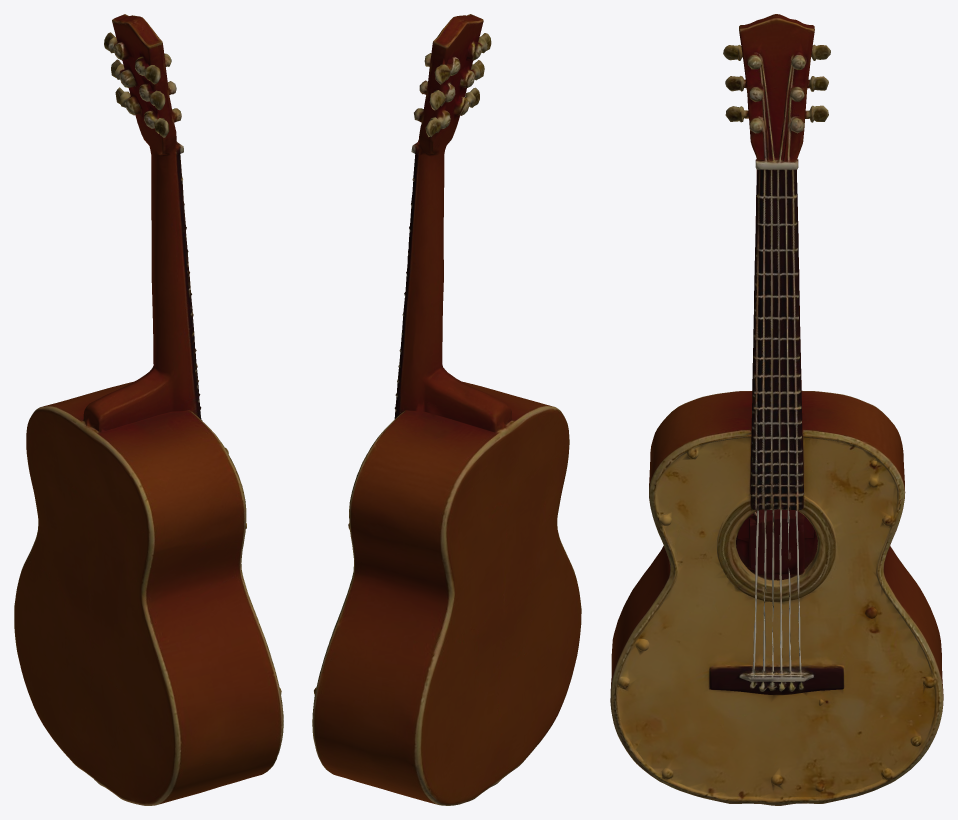
File: guitar.glb
3 views of the same model, side by side, from view 1: azimuth 30°, elevation 25°; view 2: azimuth 150°, elevation 25°; view 3: azimuth 270°, elevation 25° (orthographic).
Visible parts, largest first — view 1: tripo_node_d4d8bda7-802a-4e6f-b72e-bcd093d6d8bf; view 2: tripo_node_d4d8bda7-802a-4e6f-b72e-bcd093d6d8bf; view 3: tripo_node_d4d8bda7-802a-4e6f-b72e-bcd093d6d8bf.
Boxes of the visible parts, x1,y1,x2,y2 form: tripo_node_d4d8bda7-802a-4e6f-b72e-bcd093d6d8bf: (14,14,283,805); tripo_node_d4d8bda7-802a-4e6f-b72e-bcd093d6d8bf: (312,14,581,805); tripo_node_d4d8bda7-802a-4e6f-b72e-bcd093d6d8bf: (610,14,943,805).
Bounding box in the file's own units: 0.1785 × 1 × 0.3944.
Materials: 1 (1 with a texture image).
